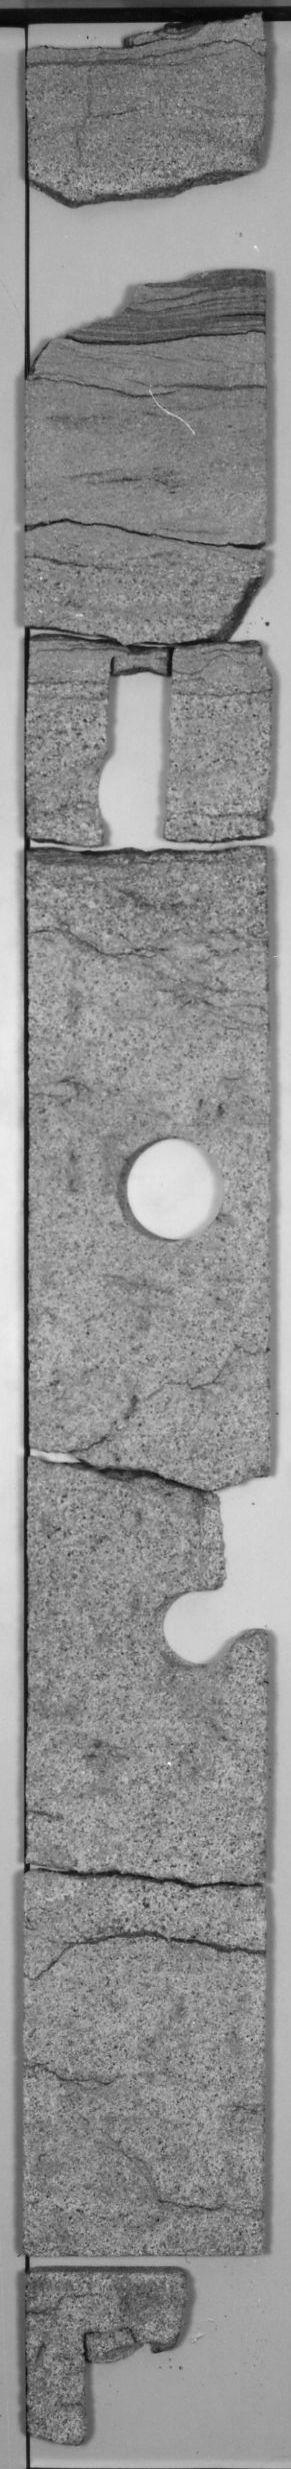hplug: (142, 1579, 242, 1671), (72, 748, 179, 820)
scal: (110, 1124, 242, 1250)
vplug: (91, 636, 175, 861), (68, 2313, 160, 2441), (193, 1450, 271, 1584)
